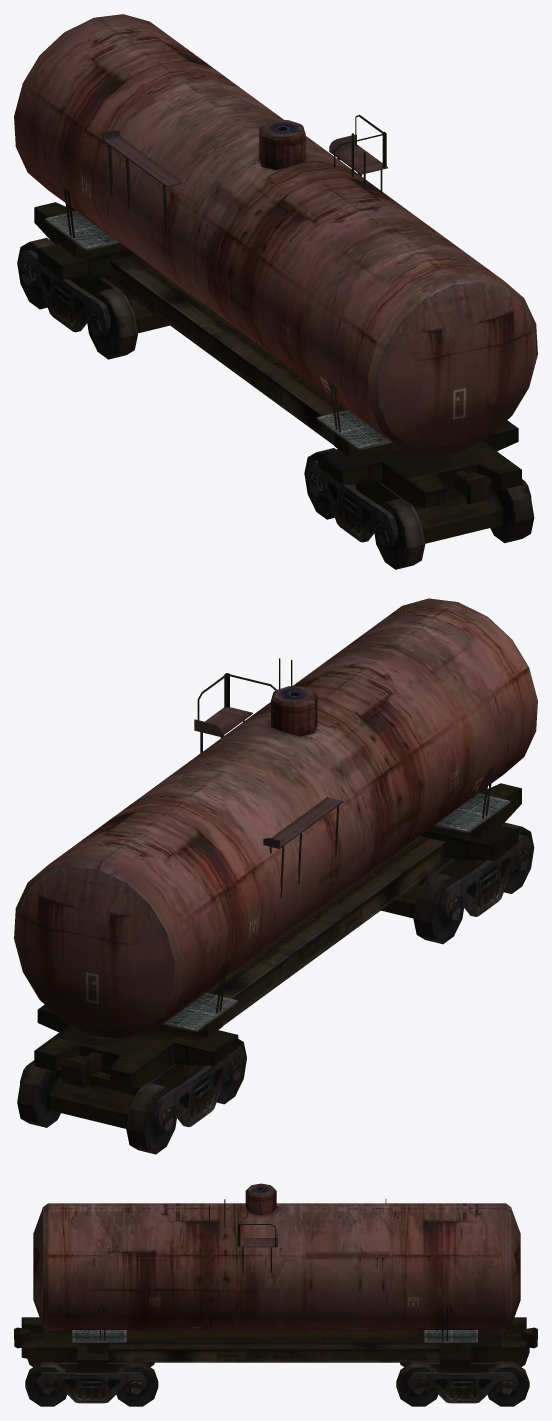
Rendered from train002.glb.
The picture shows the model from 3 angles, top to bottom: view 1: azimuth 30°, elevation 25°; view 2: azimuth 150°, elevation 25°; view 3: azimuth 270°, elevation 25°; orthographic projection. The views are drawn at different scales.
Parts seen in each view (by area): view 1: 0_train002; view 2: 0_train002; view 3: 0_train002.
Part boxes in pixels (<box>): 0_train002: <box>14,14,537,569</box>; 0_train002: <box>14,598,537,1154</box>; 0_train002: <box>14,1183,537,1406</box>.
Size of the model in its own units: 2.93 by 4.88 by 11.66.
1 material, 1 textured.
